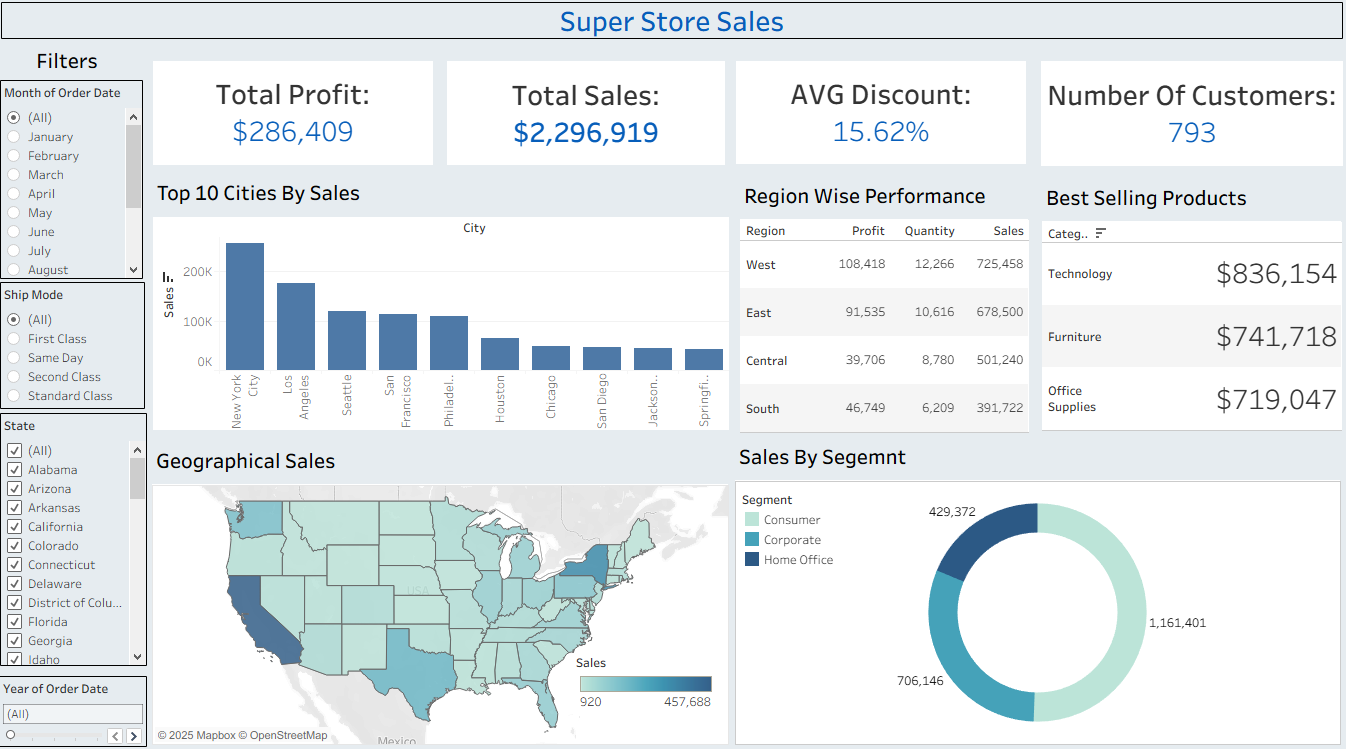

This screenshot's page, from the dashboard's own definition file:
{"tool":"tableau","page":{"name":"Dashboard 1","canvas":[1366,768],"ordinal":0},"visuals":[{"type":"title","box":[8,8,1350,45]},{"type":"text","box":[28,55,100,30]},{"type":"worksheet","title":"Total Profit","mark":"Automatic","box":[164,56,280,119]},{"type":"worksheet","title":"Total Sales","mark":"Automatic","box":[458,56,278,119]},{"type":"worksheet","title":"AVG Discount","mark":"Automatic","box":[747,56,290,118]},{"type":"worksheet","title":"Number Of Customers","mark":"Automatic","box":[1052,56,302,120]},{"type":"filter","title":"Total Sales","param":"[federated.16womud0xbee9e165ksgx1lg93pz].[mn:Order Date:ok]","box":[11,90,143,199]},{"type":"worksheet","title":"Top 10 Citites By Sales","mark":"Automatic","rows":["Sales"],"cols":["City"],"box":[164,184,576,256]},{"type":"worksheet","title":"Region Wise Performance","mark":"Automatic","rows":["Region"],"box":[751,187,289,256]},{"type":"worksheet","title":"Best Selling Products","mark":"Automatic","rows":["Category"],"box":[1053,189,300,252]},{"type":"filter","title":"Total Sales","param":"[federated.16womud0xbee9e165ksgx1lg93pz].[none:Ship Mode:nk]","box":[11,292,145,127]},{"type":"filter","title":"Total Sales","param":"[federated.16womud0xbee9e165ksgx1lg93pz].[none:State:nk]","box":[11,423,147,207]},{"type":"worksheet","title":"Sales By Segemnt","mark":"Pie","rows":["Calculation_184084698817642502","Calculation_184084698817658888"],"box":[746,448,606,307]},{"type":"worksheet","title":"Geographical Sales","mark":"Automatic","box":[163,452,577,303]},{"type":"legend","title":"Sales By Segemnt","param":"[federated.16womud0xbee9e165ksgx1lg93pz].[none:Segment:nk]","box":[753,501,118,93]},{"type":"filter","title":"Total Sales","param":"[federated.16womud0xbee9e165ksgx1lg93pz].[yr:Order Date:ok]","box":[10,634,148,123]},{"type":"legend","title":"Geographical Sales","param":"[federated.16womud0xbee9e165ksgx1lg93pz].[sum:Sales:qk]","box":[587,664,140,76]}]}

Visuals, with their boxes in screenshot pixels (x1, y1, x2, y2), scaled from the page's 1366x768 canvas onto the 1346x749 screenshot:
title: (left=8, top=8, right=1338, bottom=52)
text: (left=28, top=54, right=126, bottom=83)
"Total Profit" worksheet: (left=162, top=55, right=437, bottom=171)
"Total Sales" worksheet: (left=451, top=55, right=725, bottom=171)
"AVG Discount" worksheet: (left=736, top=55, right=1022, bottom=170)
"Number Of Customers" worksheet: (left=1037, top=55, right=1334, bottom=172)
"Total Sales" filter: (left=11, top=88, right=152, bottom=282)
"Top 10 Citites By Sales" worksheet: (left=162, top=179, right=729, bottom=429)
"Region Wise Performance" worksheet: (left=740, top=182, right=1025, bottom=432)
"Best Selling Products" worksheet: (left=1038, top=184, right=1333, bottom=430)
"Total Sales" filter: (left=11, top=285, right=154, bottom=409)
"Total Sales" filter: (left=11, top=413, right=156, bottom=614)
"Sales By Segemnt" worksheet (Pie marks): (left=735, top=437, right=1332, bottom=736)
"Geographical Sales" worksheet: (left=161, top=441, right=729, bottom=736)
"Sales By Segemnt" legend: (left=742, top=489, right=858, bottom=579)
"Total Sales" filter: (left=10, top=618, right=156, bottom=738)
"Geographical Sales" legend: (left=578, top=648, right=716, bottom=722)
